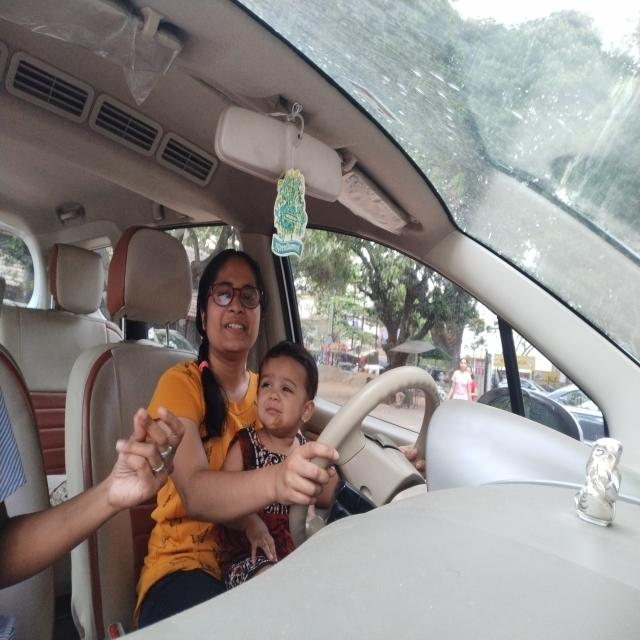child: (256, 336, 320, 437)
person: (194, 244, 267, 362)
